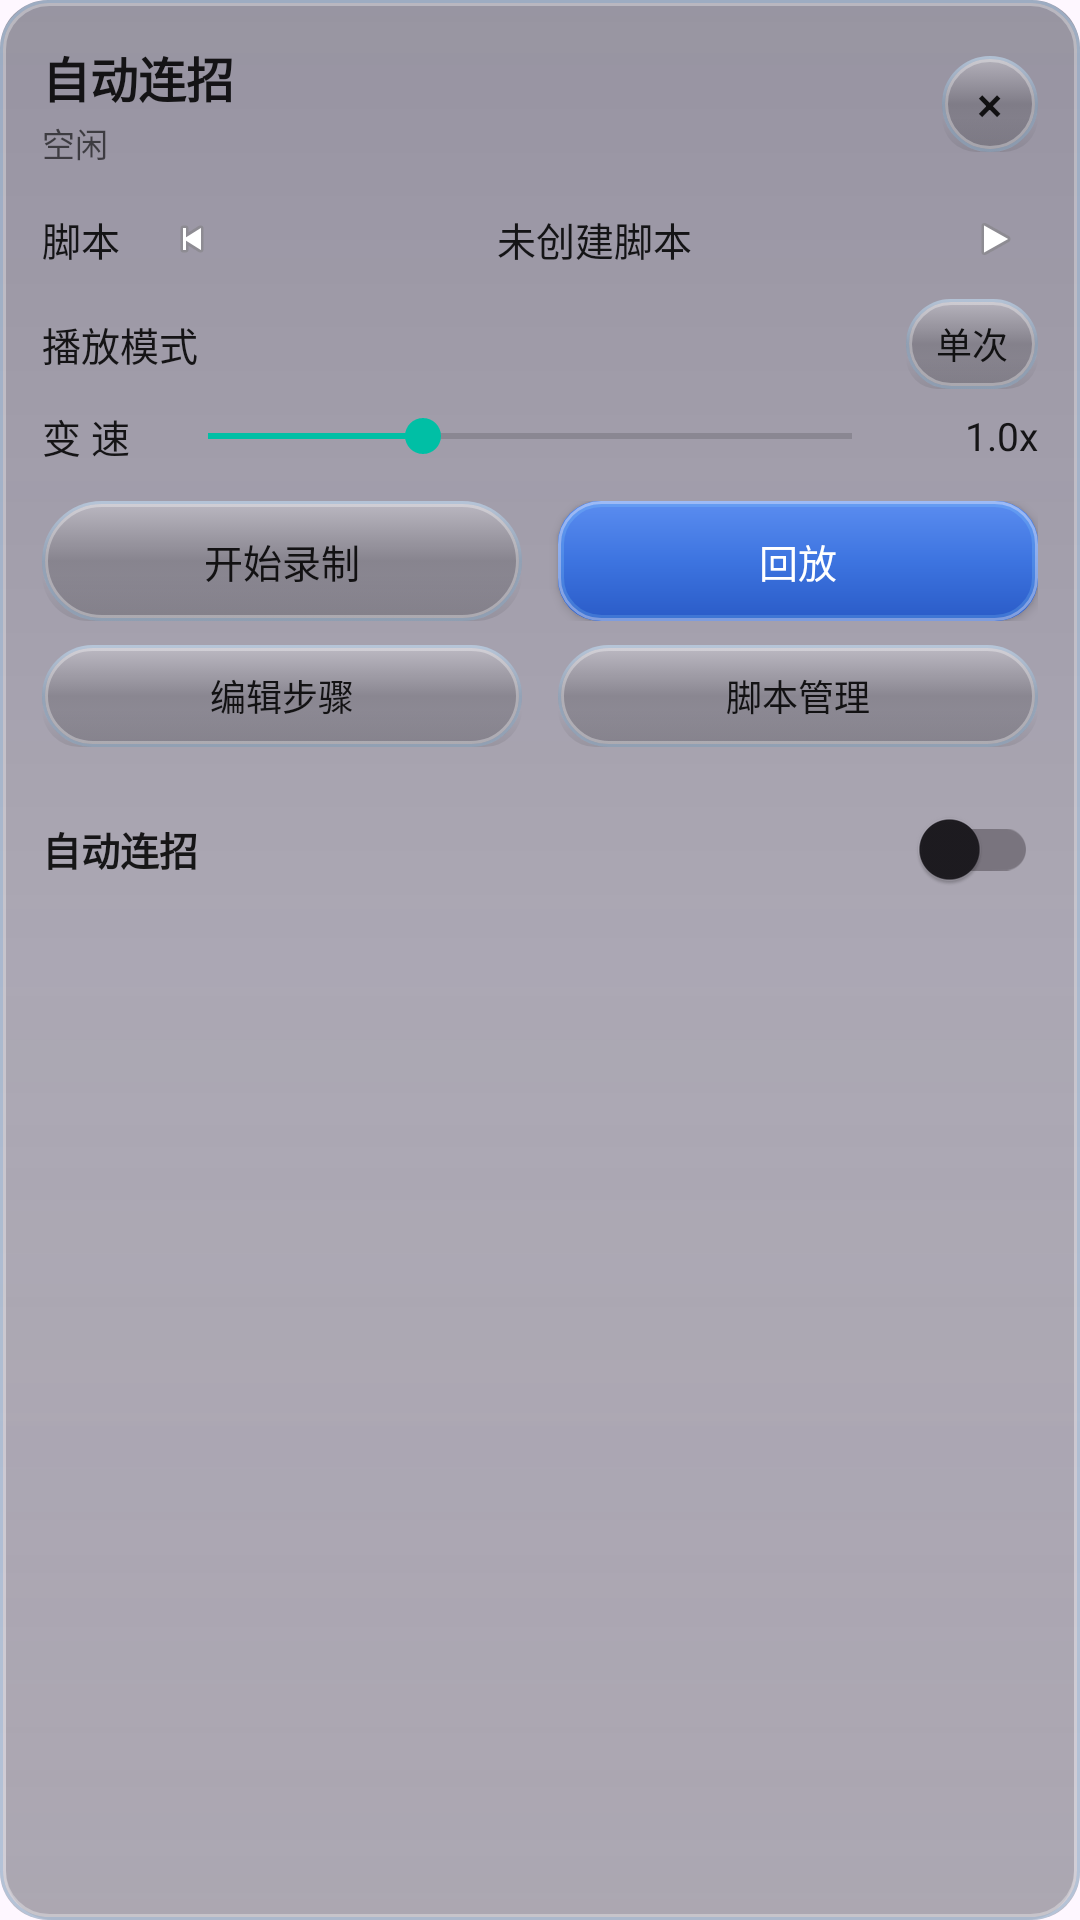

Point at icon controls on the screen. Image size 1080x1920, points as [x,y].
下一个脚本: [996,239]
